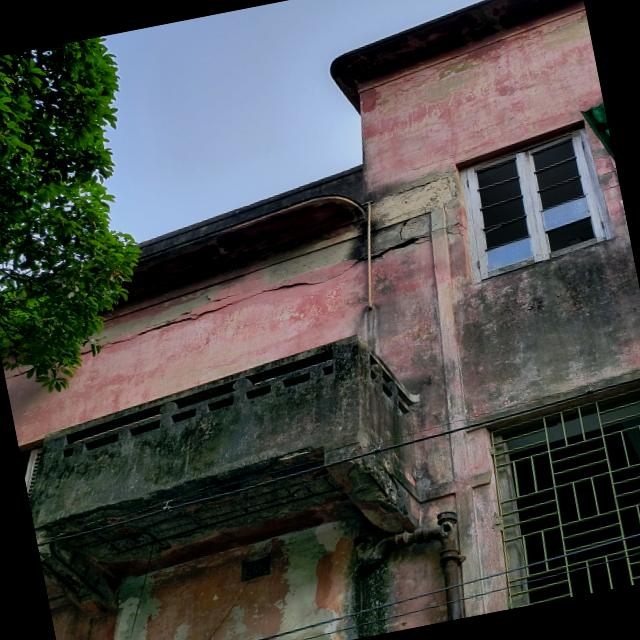peeling: (7, 166, 368, 450), (372, 177, 457, 256), (372, 206, 432, 270)
spalling: (43, 448, 353, 605)
stain_mould: (460, 246, 640, 415), (370, 511, 465, 621), (336, 510, 387, 638)
